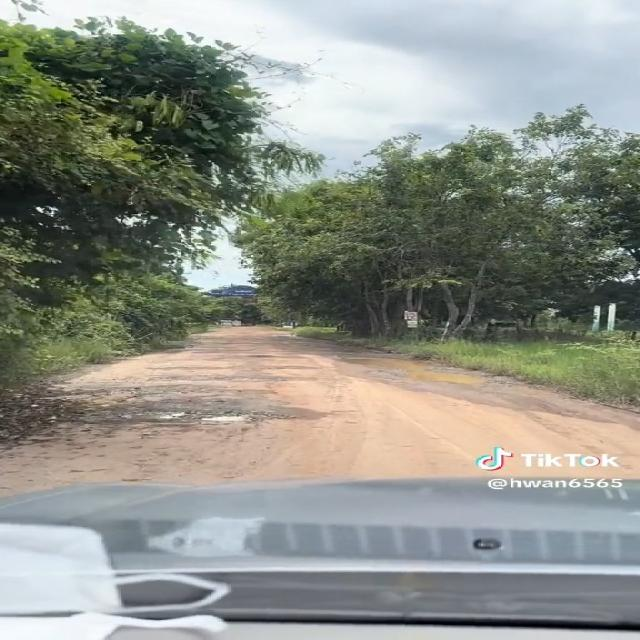Poth-hole: (281, 363, 378, 407)
